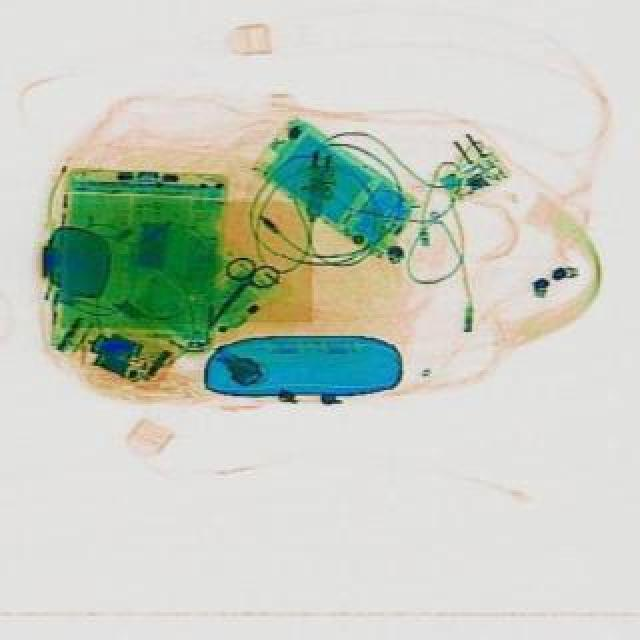pliers: (192, 248, 286, 344)
